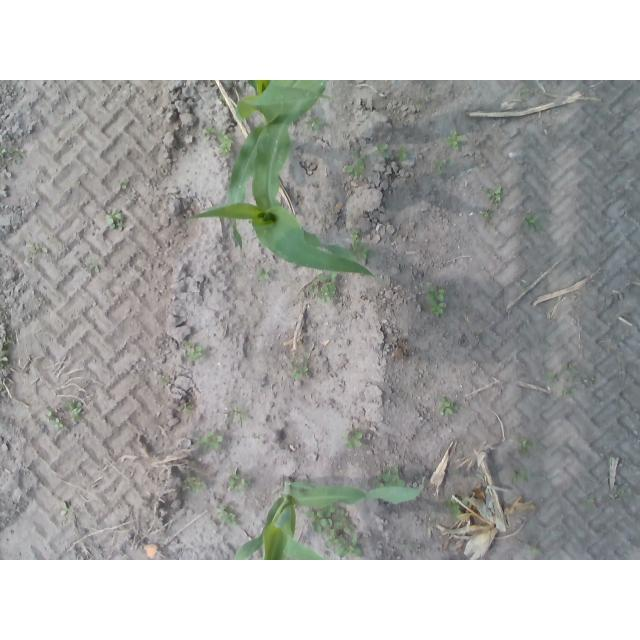Maize: (190, 81, 374, 276), (233, 478, 423, 560), (227, 80, 284, 249)
Weeds: (329, 510, 366, 558), (309, 511, 334, 533), (378, 465, 403, 485), (200, 434, 224, 451), (426, 285, 447, 304), (314, 283, 336, 301), (449, 129, 468, 148), (217, 130, 232, 154), (230, 475, 251, 492), (2, 339, 15, 366), (305, 109, 323, 128), (345, 159, 364, 177), (217, 510, 237, 527), (183, 476, 205, 491), (345, 432, 364, 449), (509, 466, 527, 483), (440, 398, 457, 416), (107, 209, 122, 228), (181, 342, 200, 357), (488, 186, 505, 202), (447, 498, 462, 515), (47, 409, 62, 424), (68, 401, 84, 415), (257, 267, 275, 279), (293, 361, 307, 376), (30, 244, 48, 255), (562, 385, 575, 400), (375, 144, 390, 157), (393, 148, 407, 161), (203, 125, 215, 140), (430, 305, 446, 316), (356, 242, 367, 258), (565, 361, 578, 374), (528, 214, 541, 227), (345, 233, 359, 244), (520, 438, 531, 451), (164, 376, 177, 387), (120, 176, 130, 190), (89, 263, 103, 273), (547, 371, 557, 385), (480, 208, 492, 218), (185, 399, 195, 409)
